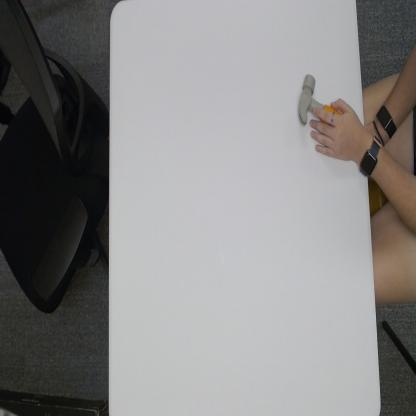Hammer: (298, 72, 344, 128)
Hand: (309, 98, 361, 161)
